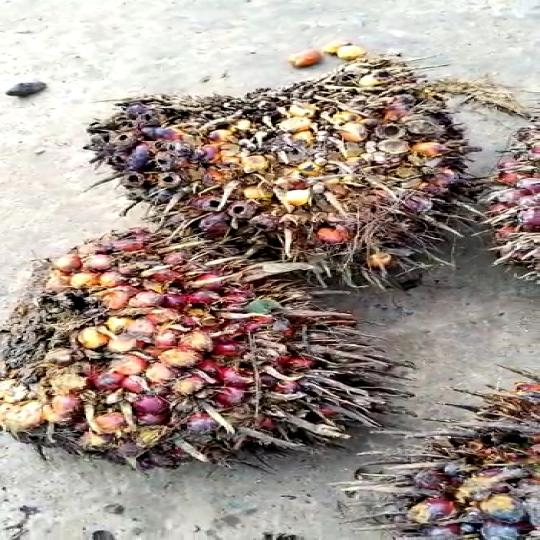masak: (0, 220, 430, 462), (72, 56, 484, 300)
